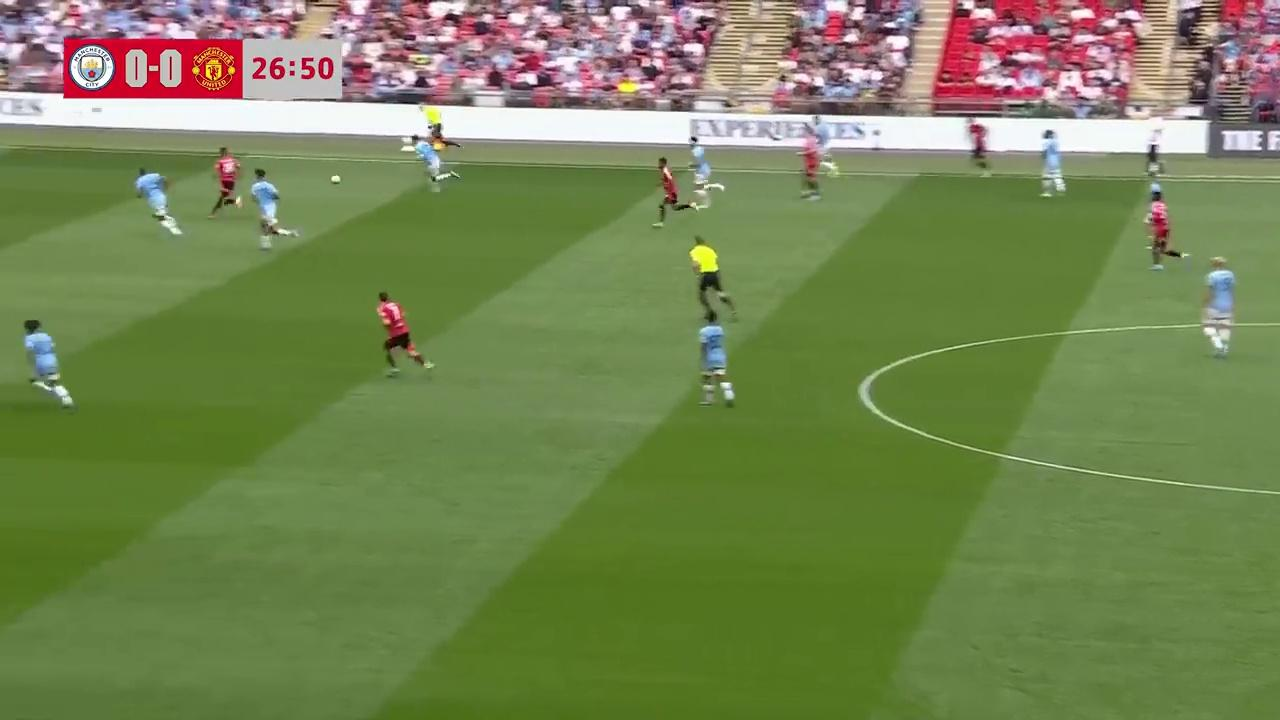ball: (329, 171, 343, 185)
player: (22, 318, 76, 411), (375, 292, 434, 377), (697, 306, 736, 408), (250, 168, 297, 249), (1143, 189, 1190, 270), (1201, 255, 1236, 357), (134, 165, 183, 237), (209, 145, 244, 218), (687, 141, 724, 209), (652, 156, 686, 228), (409, 133, 448, 193), (1039, 127, 1066, 197), (964, 116, 991, 173), (798, 138, 822, 201), (815, 133, 840, 184)
referee: (688, 234, 738, 320), (419, 96, 464, 165)
